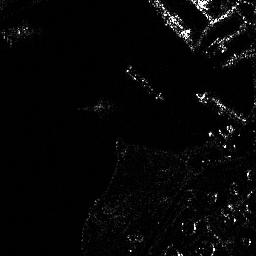ship: (149, 1, 195, 48), (193, 91, 247, 125), (124, 65, 163, 102)
